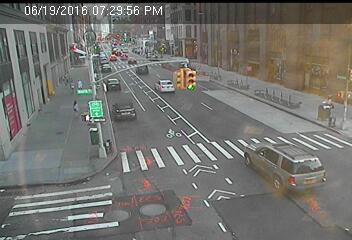neg: (91, 139, 111, 165), (233, 23, 250, 45), (318, 139, 334, 161), (251, 178, 267, 200), (64, 157, 80, 178), (271, 129, 286, 149), (261, 94, 276, 113), (59, 41, 73, 61), (164, 91, 178, 110), (222, 115, 236, 134), (18, 28, 32, 46), (206, 161, 219, 178), (133, 166, 146, 183), (31, 122, 44, 139), (176, 17, 189, 34), (130, 115, 143, 131), (276, 32, 288, 49), (182, 117, 194, 133), (59, 14, 71, 30), (314, 29, 326, 45), (298, 173, 309, 188), (310, 66, 320, 80), (135, 27, 145, 39)
pos: (70, 99, 81, 114), (74, 77, 85, 92), (65, 78, 76, 92)
